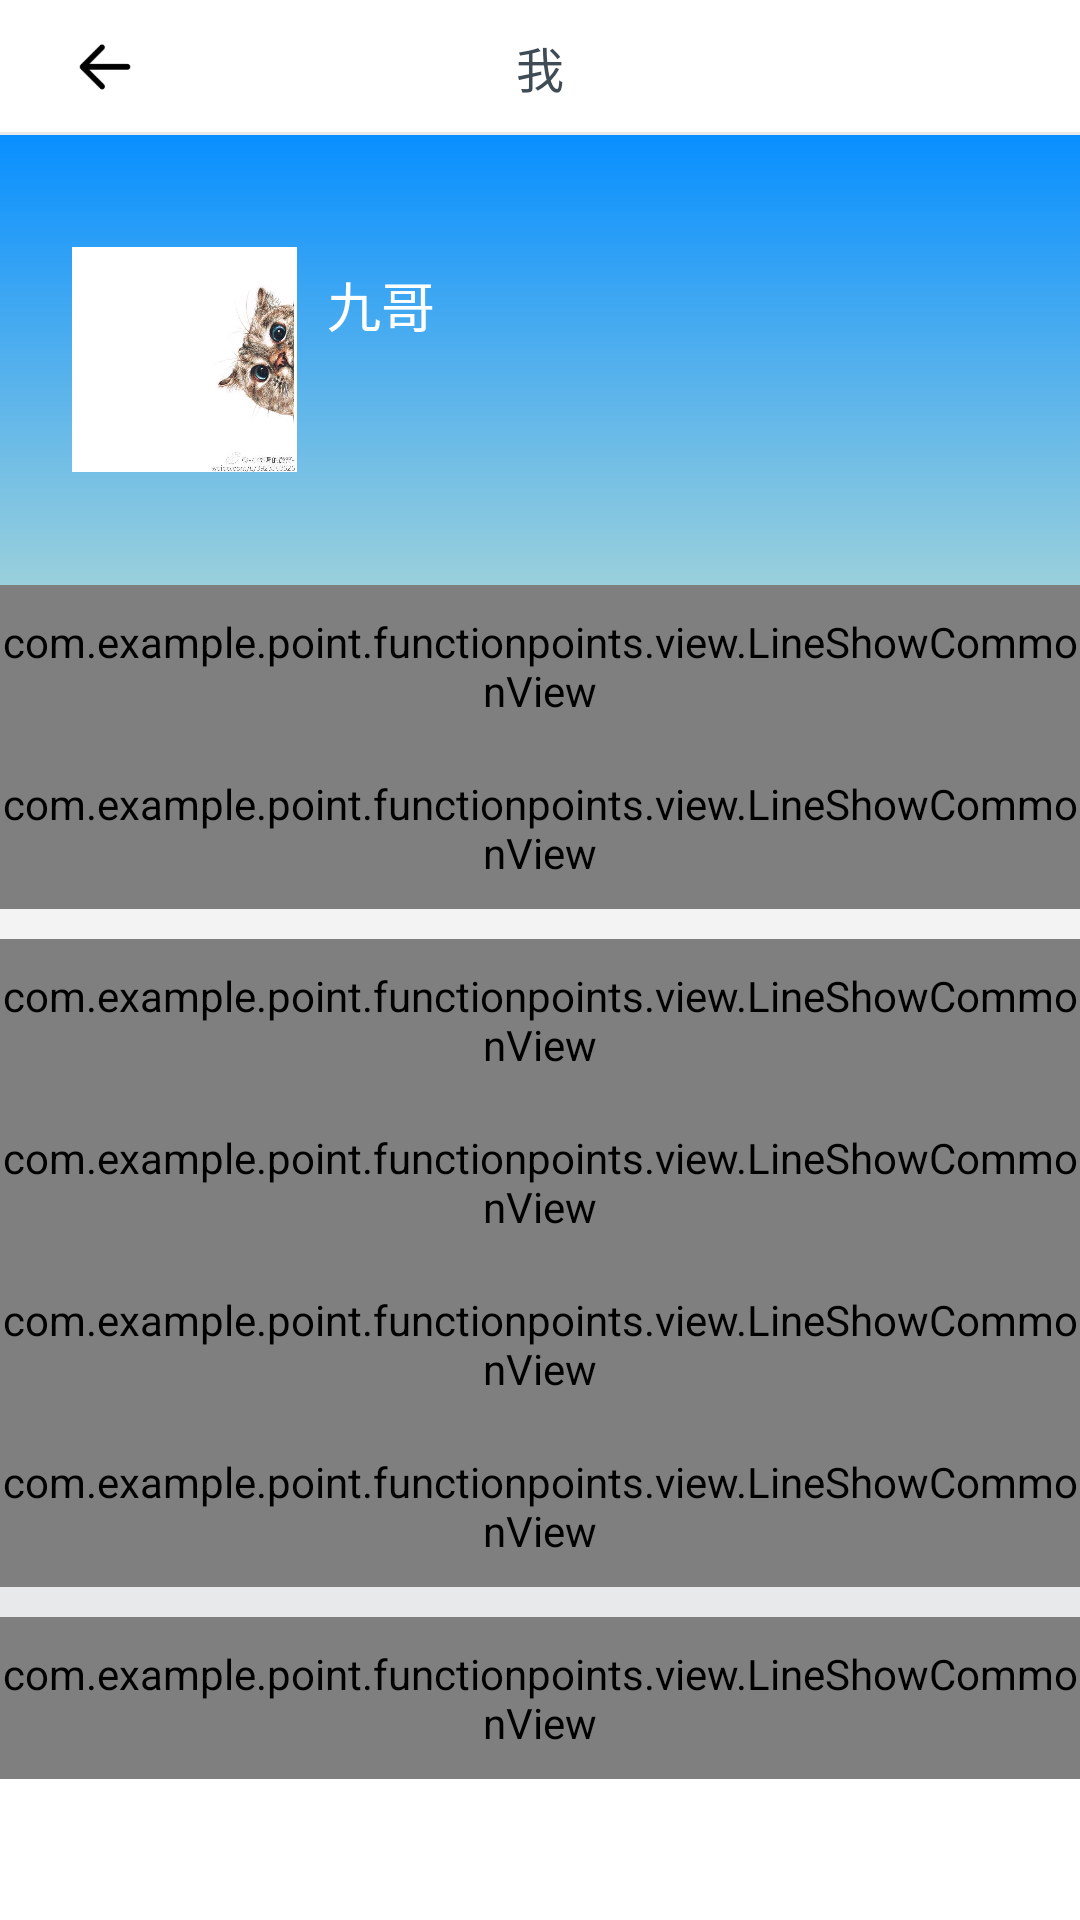

Named icons in this screenshot (1080×1920) and their centers, (x=x, y=y):
portrait: (x=184, y=359)
return: (x=105, y=67)
